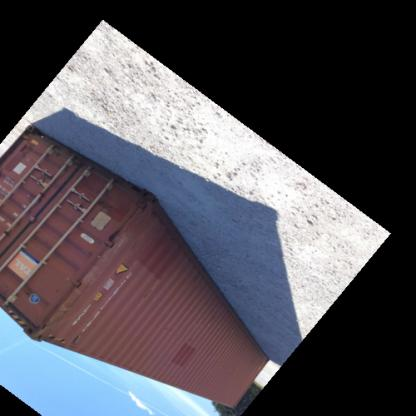Damage: (95, 214, 147, 274), (41, 272, 97, 326)
